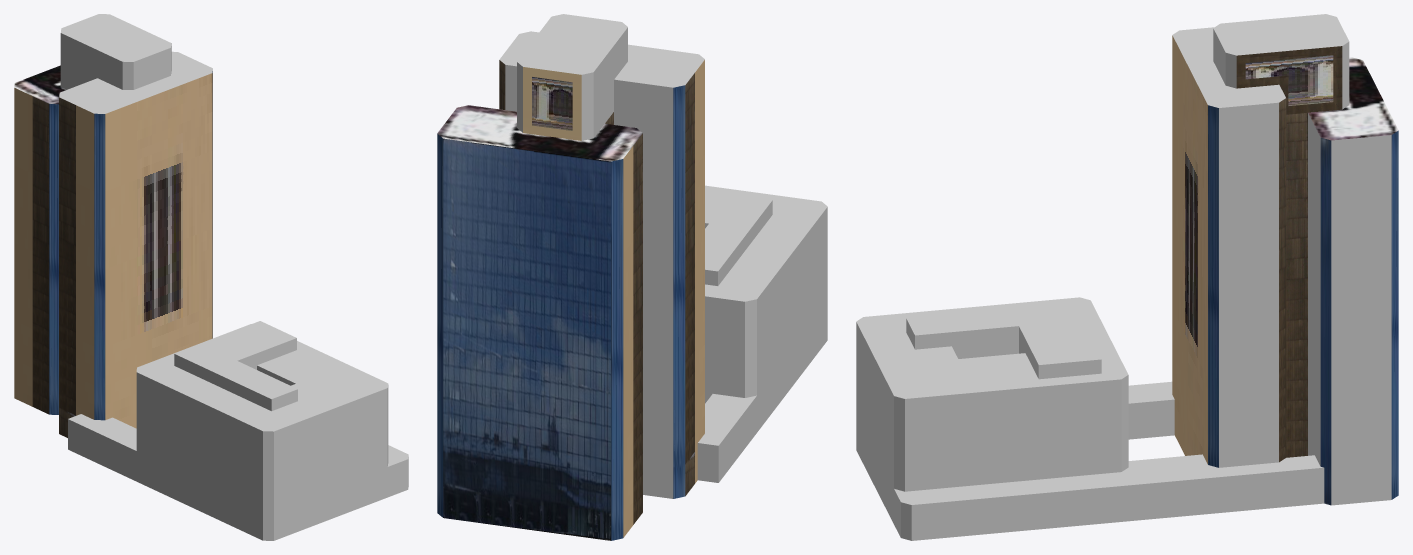
File: energoinvest.fbx
3 views of the same model, side by side, from view 1: azimuth 30°, elevation 25°; view 2: azimuth 150°, elevation 25°; view 3: azimuth 270°, elevation 25° (orthographic). The views are drawn at different scales.
Visible parts, largest first — view 1: Model; view 2: Model; view 3: Model.
Part boxes in pixels (<box>): Model: <box>14,14,408,540</box>; Model: <box>437,14,827,540</box>; Model: <box>856,14,1398,540</box>.
Bounding box in the file's own units: 54834 × 87209 × 100031.
